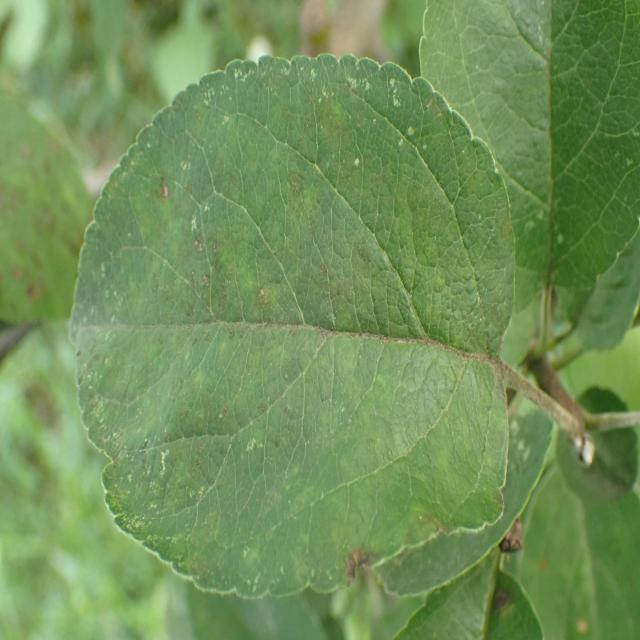scab: (98, 132, 503, 585), (536, 108, 578, 387)
